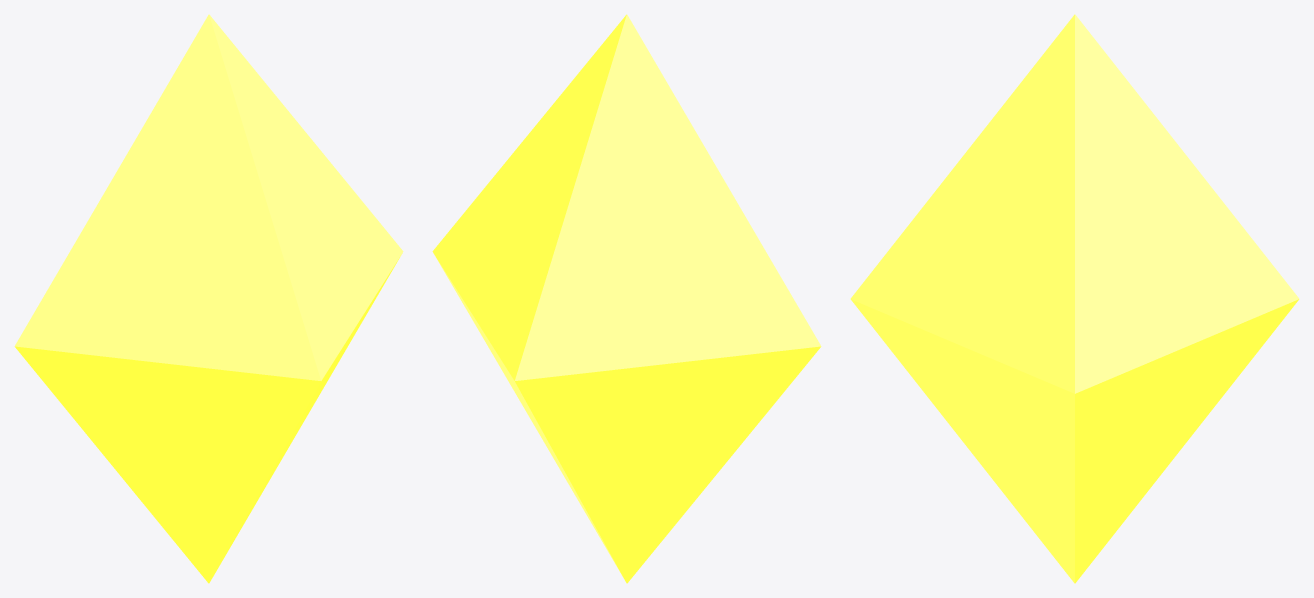
The model's file is star_collectable.glb.
The picture shows the model from 3 angles, left to right: view 1: azimuth 30°, elevation 25°; view 2: azimuth 150°, elevation 25°; view 3: azimuth 270°, elevation 25°; orthographic projection.
Visible parts, largest first — view 1: star_collectable; view 2: star_collectable; view 3: star_collectable.
Boxes of the visible parts, x1=… form: star_collectable: x1=14, y1=14, x2=403, y2=583; star_collectable: x1=432, y1=14, x2=821, y2=583; star_collectable: x1=850, y1=14, x2=1299, y2=583.
Bounding box in the file's own units: 0.6 × 0.84 × 0.6.
